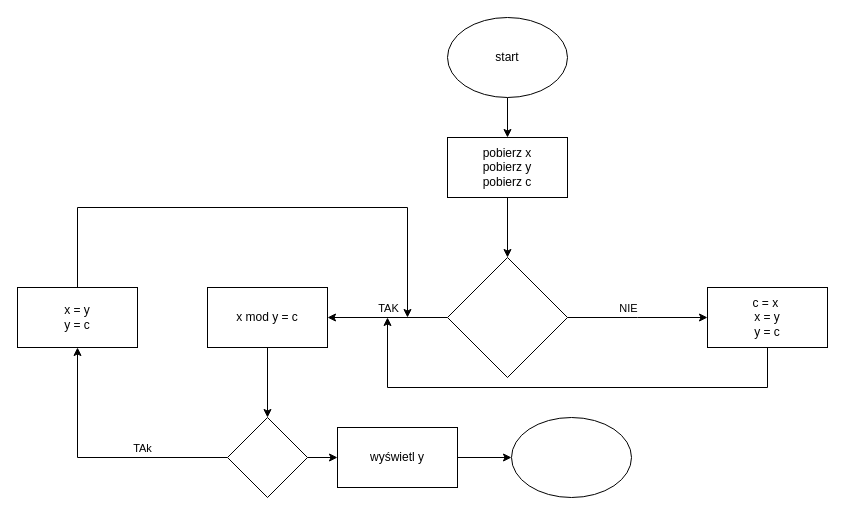
Some shapes in this 845 by 515 pixel diagram are drawn without their labels. The shapes that lost their labels are listed below. From the top down, each one's centre as x and y in pixels, then its label:
At point 507,317: "x > y".
At point 267,457: "c > 0".
At point 571,457: "stop".
